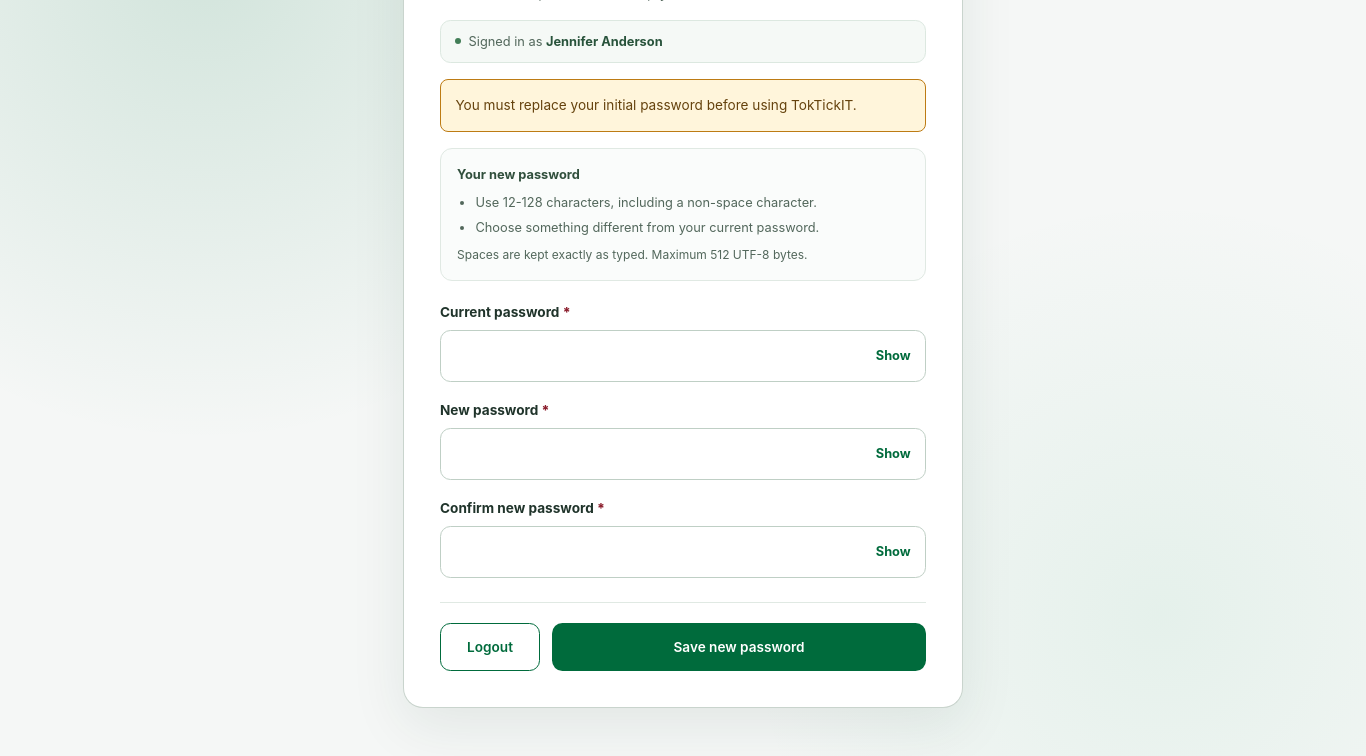
Lab 3 authentication UI and role shell › allows logout from the mandatory password screen without exposing normal navigation
(page scrolled)
Click the button "Logout".
click(490, 647)  # box x1=440 y1=623 x2=540 y2=671
(page scrolled)
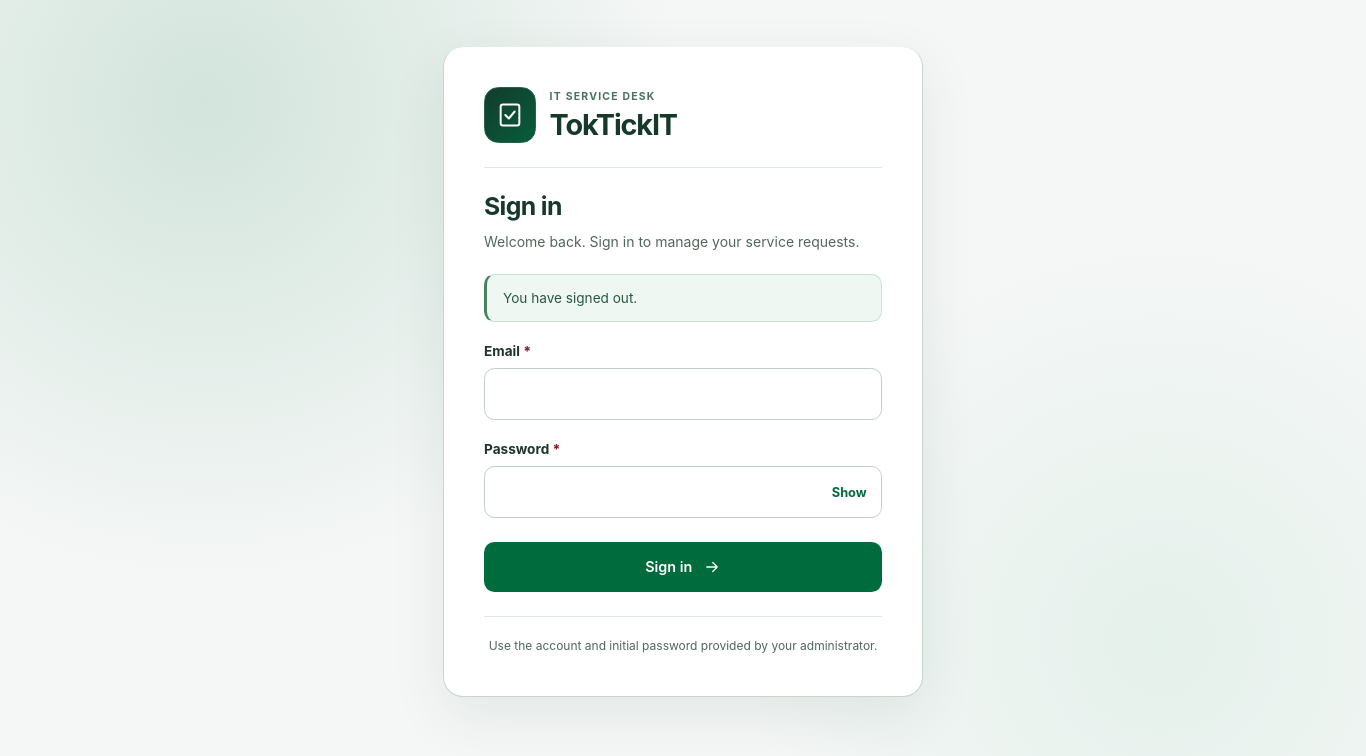
Check: the heading "Sign in" is shown, box x1=484 y1=191 x2=562 y2=221
